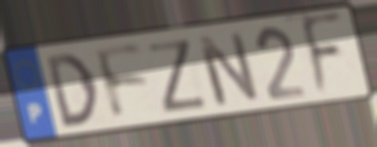2: (253, 24, 310, 103)
D: (43, 50, 101, 131)
F: (91, 42, 152, 125), (298, 9, 346, 103)
N: (193, 30, 263, 109)
Z: (145, 37, 211, 117)
